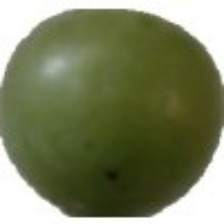grapes: (6, 5, 201, 203)
